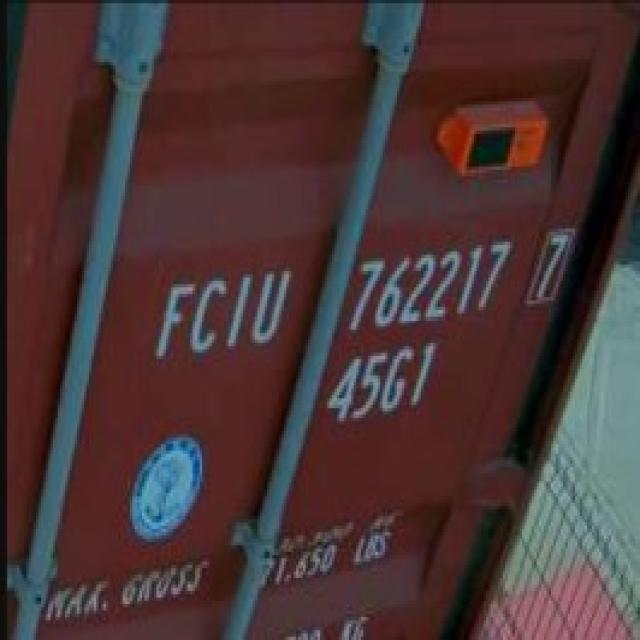dv: (524, 218, 576, 314)
owner: (148, 260, 293, 365)
serial: (350, 225, 512, 336)
size: (320, 338, 442, 433)
